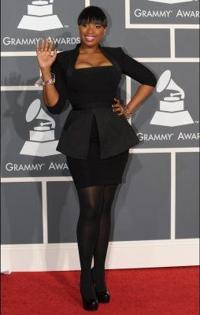person: (37, 6, 157, 309)
